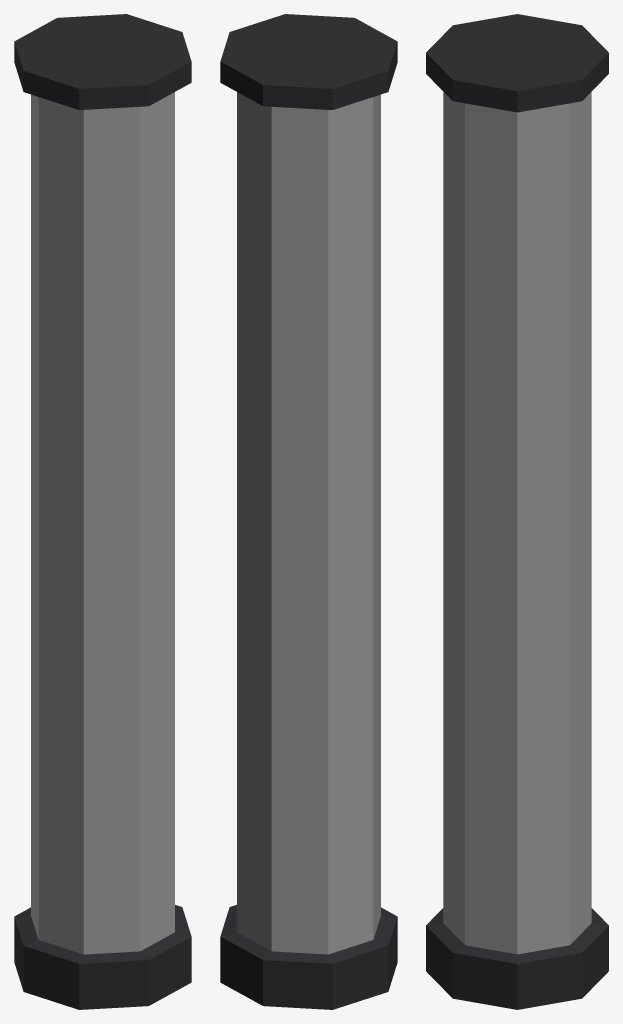
File: SM_Prop_NeonLight_Large_01.fbx
3 views of the same model, side by side, from view 1: azimuth 30°, elevation 25°; view 2: azimuth 150°, elevation 25°; view 3: azimuth 270°, elevation 25° (orthographic).
Visible parts, largest first — view 1: SM_Prop_NeonLight_Large_01; view 2: SM_Prop_NeonLight_Large_01; view 3: SM_Prop_NeonLight_Large_01.
Part boxes in pixels (x1,y1,x2,y2): SM_Prop_NeonLight_Large_01: [14, 14, 191, 1009]; SM_Prop_NeonLight_Large_01: [220, 14, 397, 1009]; SM_Prop_NeonLight_Large_01: [426, 14, 608, 1009].
Size of the model in its own units: 68.01 by 377 by 68.01.
